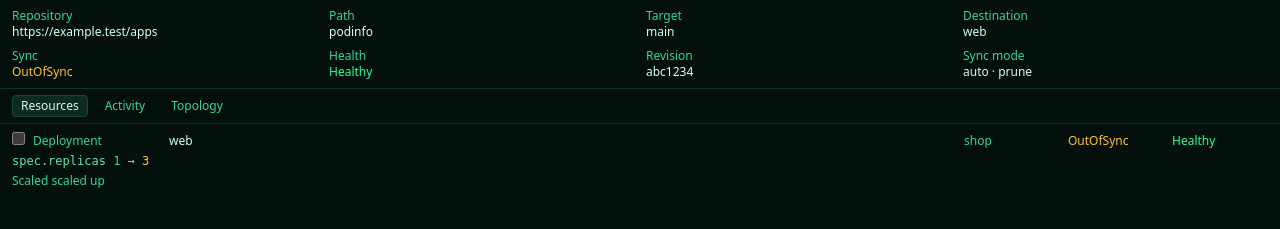
Scenario: the per-application panel › falls back to a plain message for a rejection that is not an Error
Click the checkbox named "Mark Deployment web" at [18, 138], box x1=12 y1=132 x2=25 y2=145
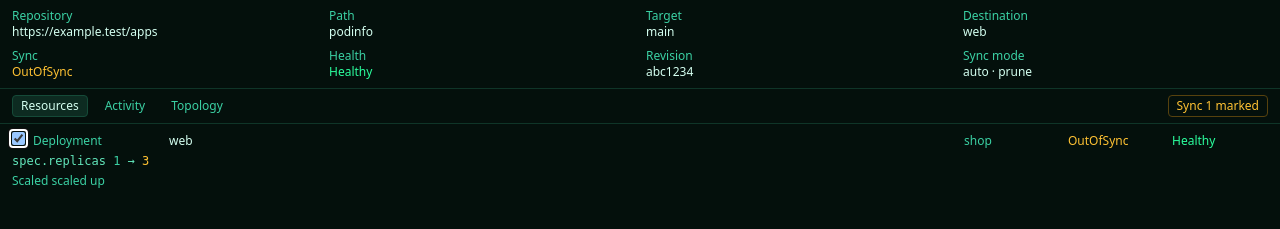
Click the button "Sync 1 marked" at [1218, 106], box x1=1168 y1=95 x2=1268 y2=117
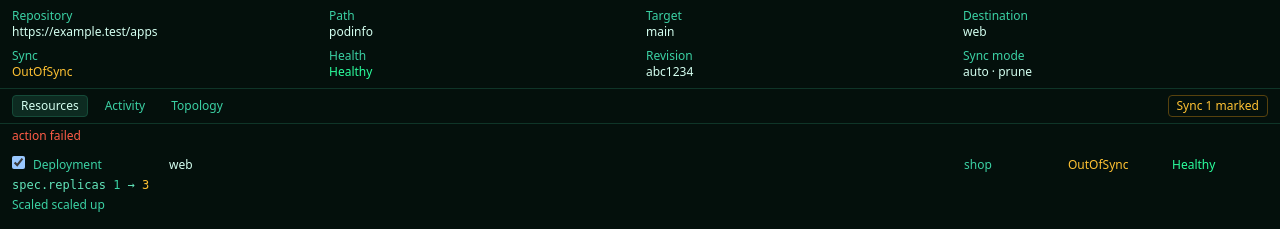
Expected: the text "action failed" is shown, x1=12 y1=127 x2=81 y2=144
